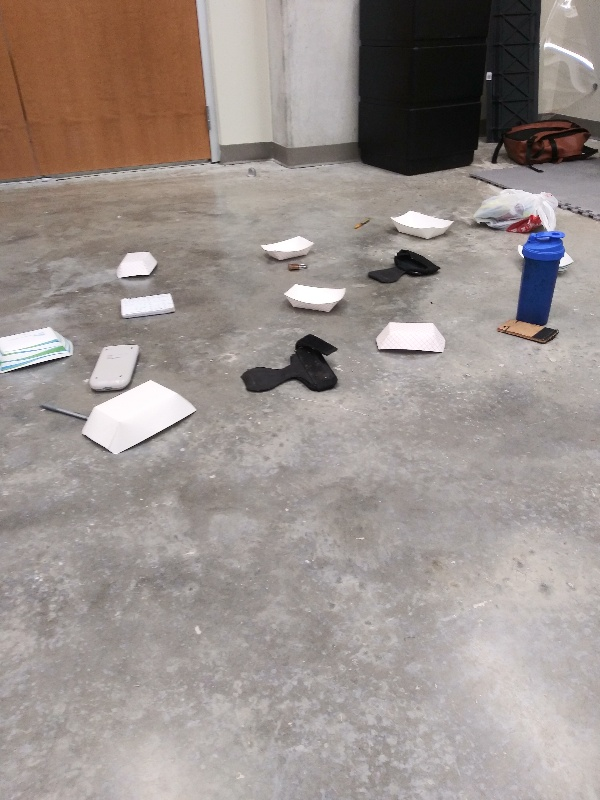plate: (77, 379, 200, 458), (1, 320, 83, 375), (373, 319, 447, 360), (384, 206, 457, 244), (280, 279, 351, 317), (258, 227, 319, 263), (114, 247, 162, 284), (558, 244, 580, 272)
